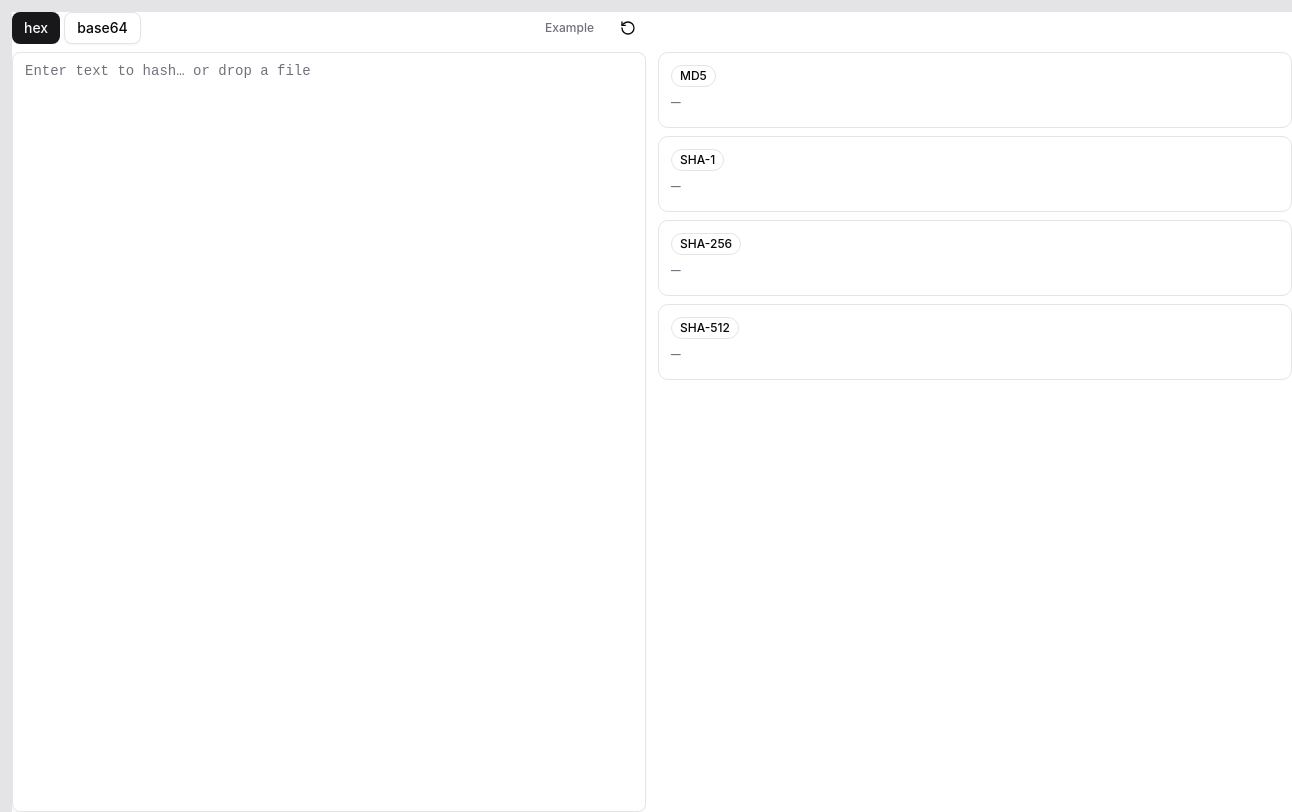
Test case: switching to base64 encoding changes hash output format
Click the button "Example" at (570, 28), box [533,12,606,44]
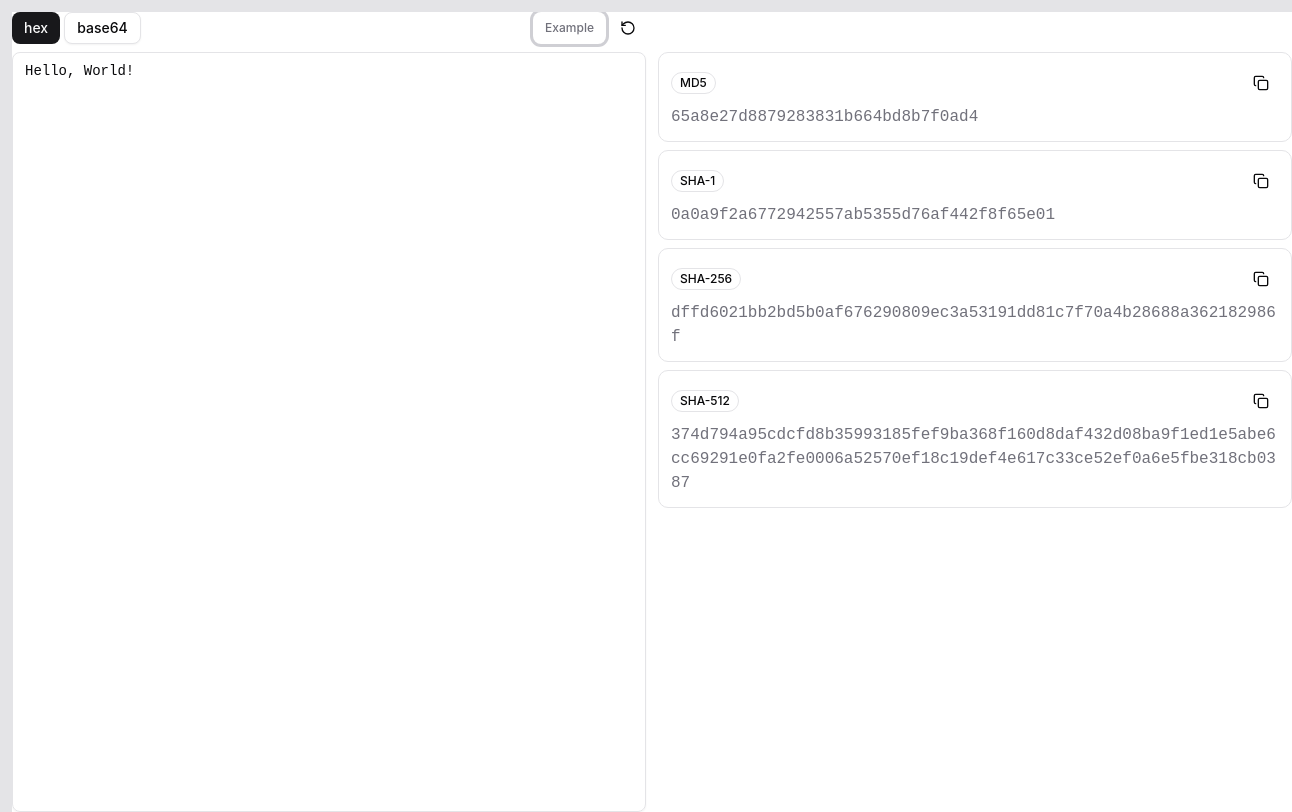
Click the button "base64" at (102, 28), box [64,12,141,44]
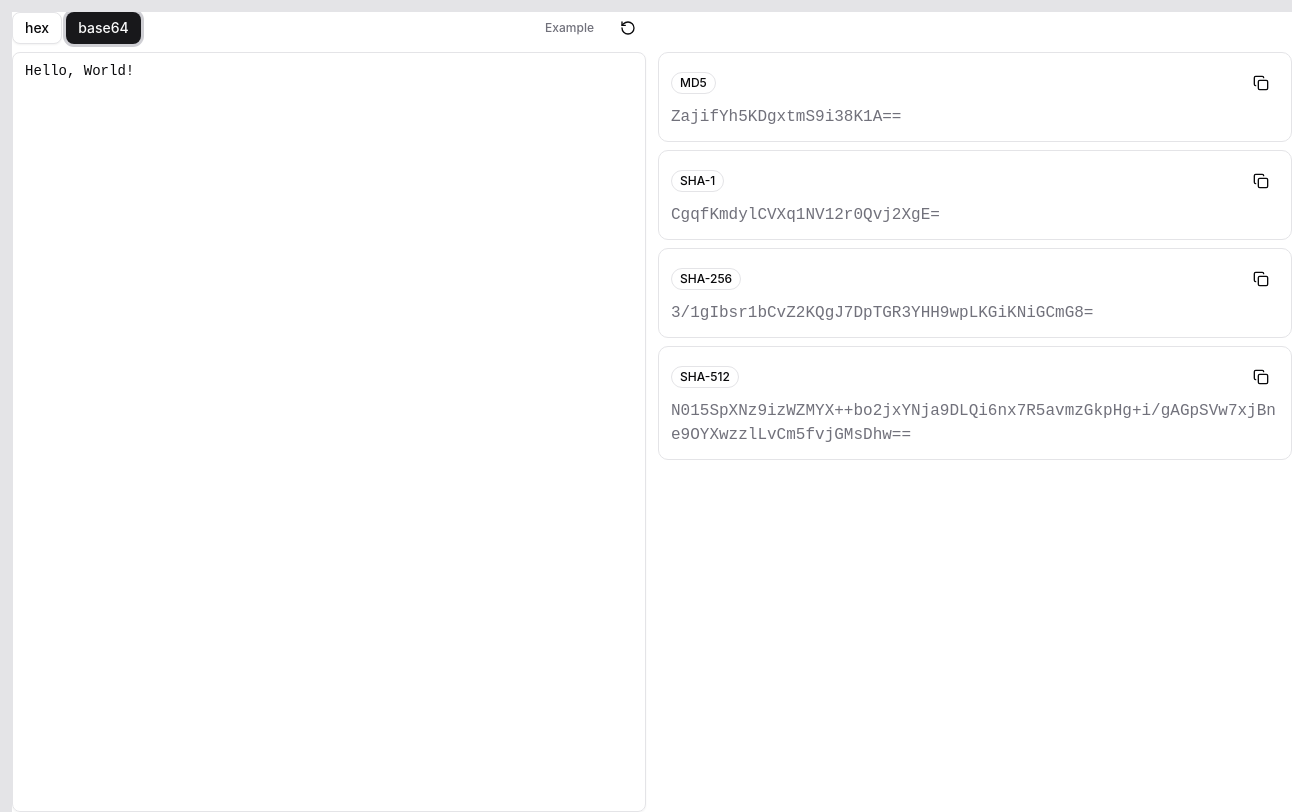
expect the text "ZajifYh5KDgxtmS9i38K1A==" is shown: met, box [671,108,901,126]
